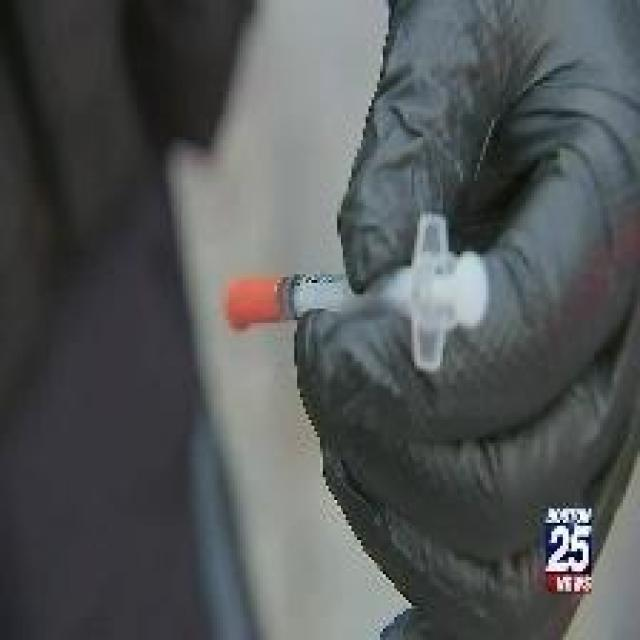syringe: (217, 202, 552, 372)
